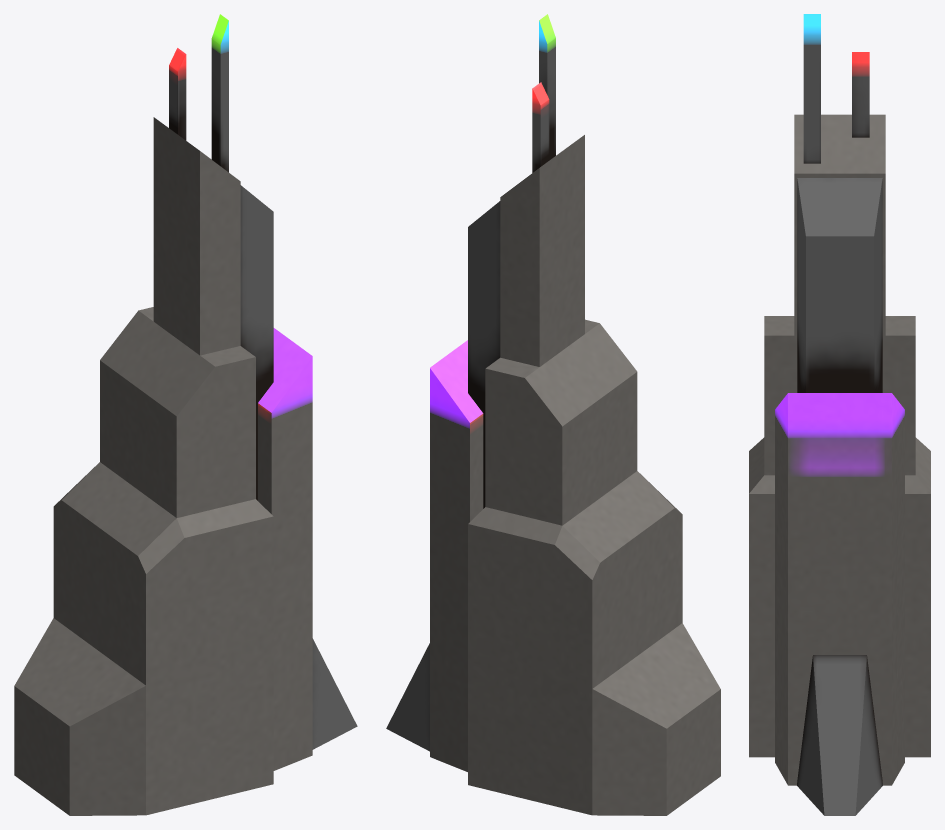
Rendered from SM_BackgroundBuilding_010.fbx.
The picture shows the model from 3 angles, left to right: view 1: azimuth 30°, elevation 25°; view 2: azimuth 150°, elevation 25°; view 3: azimuth 270°, elevation 25°; orthographic projection. The views are drawn at different scales.
Parts seen in each view (by area): view 1: SM_BackgroundBuilding_010; view 2: SM_BackgroundBuilding_010; view 3: SM_BackgroundBuilding_010.
Boxes of the visible parts, x1,y1,x2,y2 form: SM_BackgroundBuilding_010: (14,14,357,815); SM_BackgroundBuilding_010: (386,14,720,815); SM_BackgroundBuilding_010: (749,14,930,815).
Size of the model in its own units: 1598 by 832 by 3710.
Materials: 1 (1 with a texture image).
